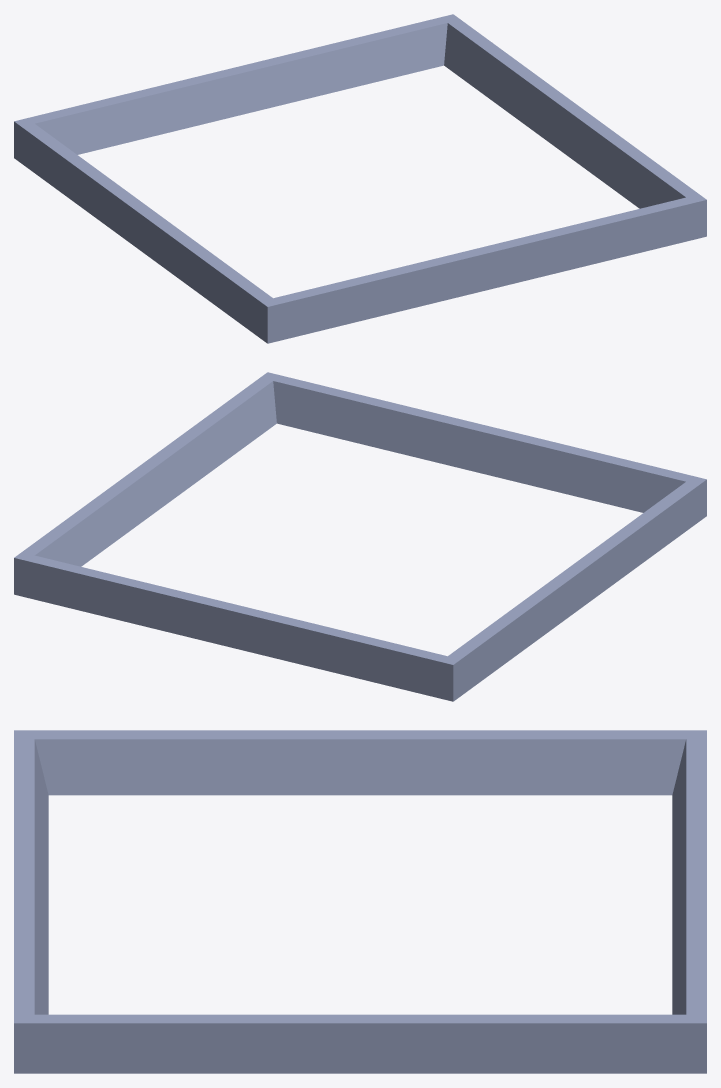
File: road-square-barrier.glb
The picture shows the model from 3 angles, top to bottom: view 1: azimuth 30°, elevation 25°; view 2: azimuth 150°, elevation 25°; view 3: azimuth 270°, elevation 25°; orthographic projection. The views are drawn at different scales.
Visible parts, largest first — view 1: road-square-barrier; view 2: road-square-barrier; view 3: road-square-barrier.
Boxes of the visible parts, box(x1,y1,x2,y2) form: road-square-barrier: box(14, 14, 706, 343); road-square-barrier: box(14, 372, 706, 701); road-square-barrier: box(14, 730, 706, 1073).
Size of the model in its own units: 1 by 0.08 by 1.
Materials: 1 (1 with a texture image).
